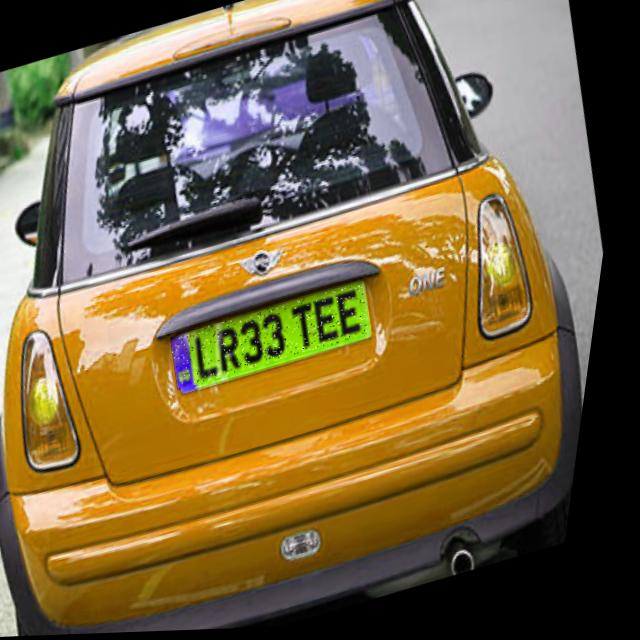license_plate: (174, 283, 385, 392)
